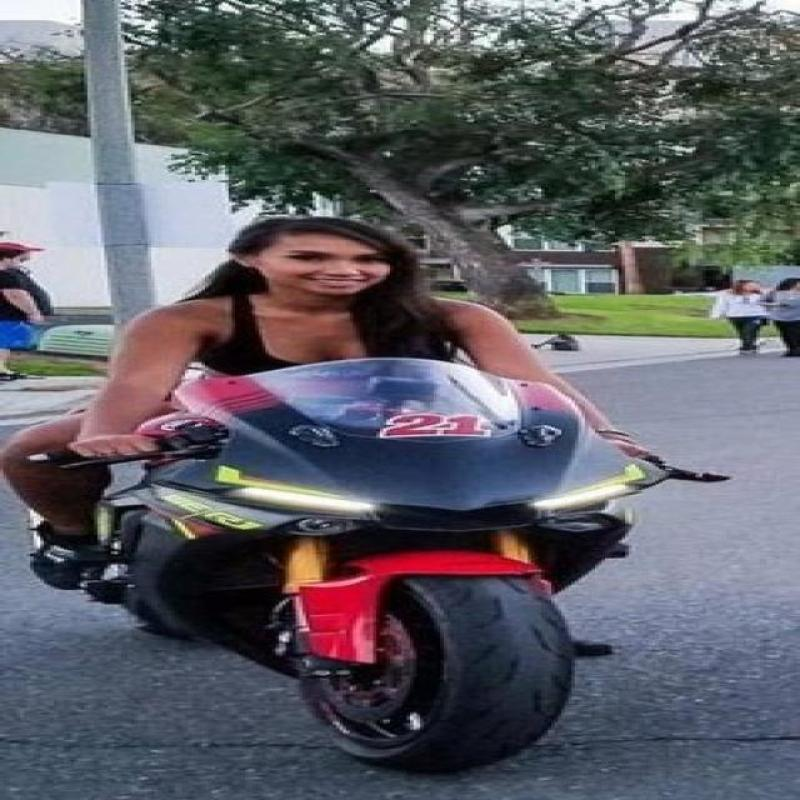nohelmet: (184, 222, 470, 296)
